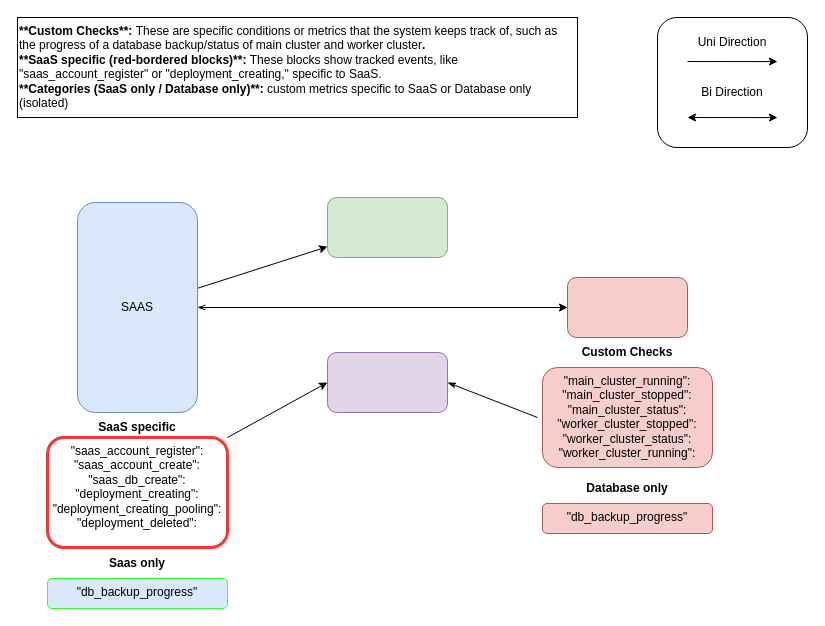
This 825x626 diagram has some shape labels left out. The shapes that lost their labels are listed below. From the top down, each one's centre as x and y in pixels, then its label:
point 387,227: UI
point 627,307: CLUSTER
point 387,382: DATADOG UI
